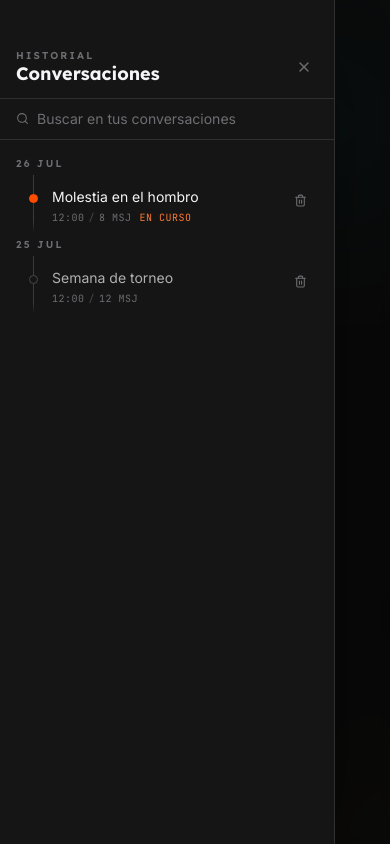
Test case: ConversationDrawer › discards a stale search result that resolves late
This screenshot has width=390, height=844.
Type "hom" into the field with placeholder "Buscar en tus conversaciones" at (178, 118), box [37, 108, 318, 128]
Wait 300 ms
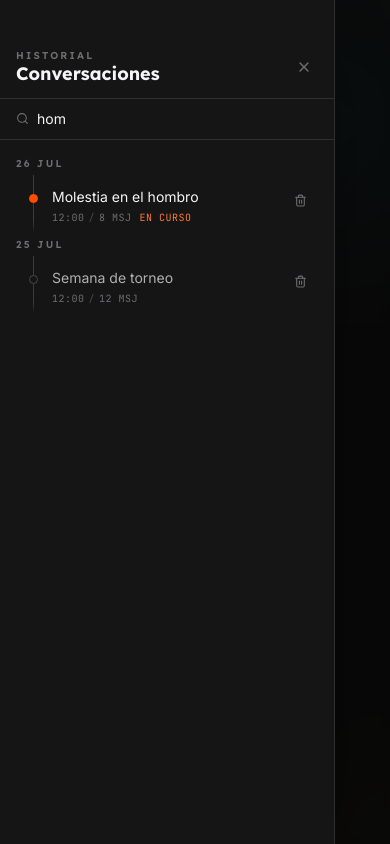
Replace the text in the field with placeholder "Buscar en tus conversaciones" with "hombro" at (178, 118), box [37, 108, 318, 128]
Wait 300 ms
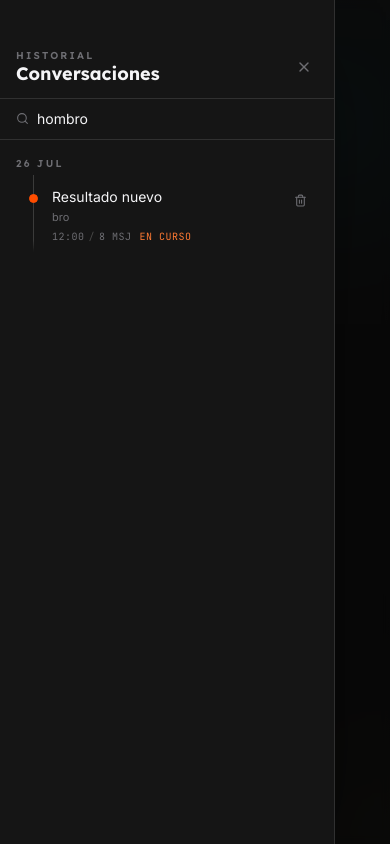
expect the text "Resultado nuevo" is shown: met, box [52, 188, 162, 204]
